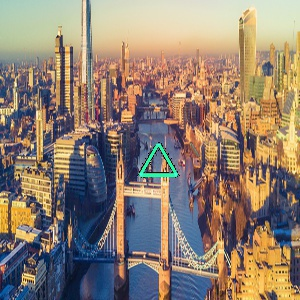triangle: (137, 140, 181, 180)
